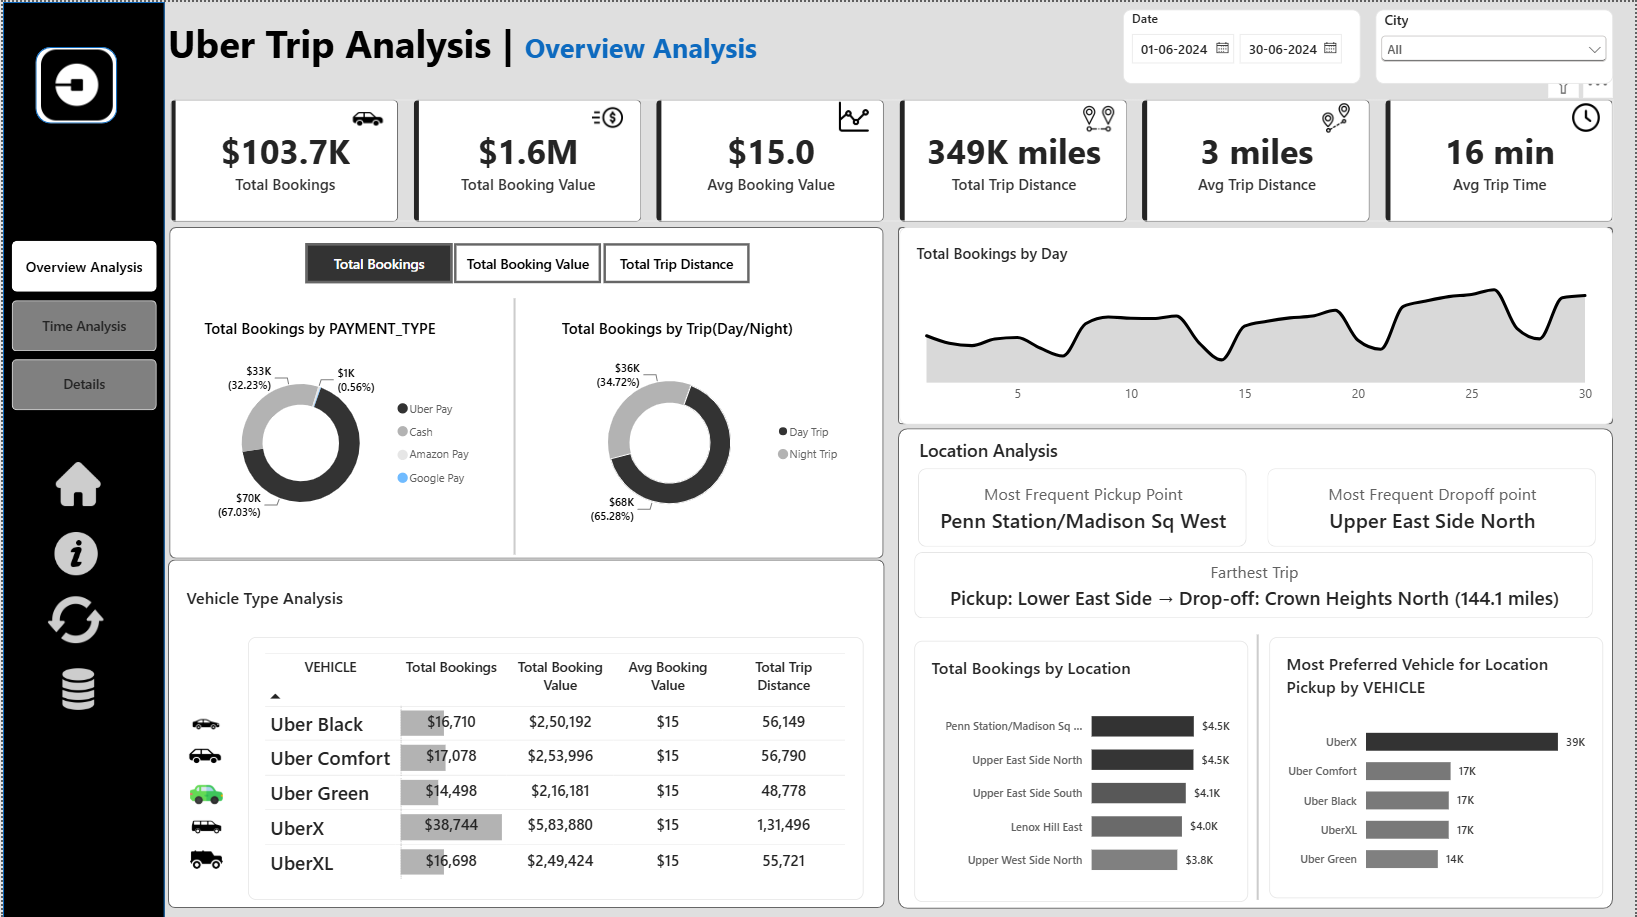

This screenshot's page, from the dashboard's own definition file:
{"tool":"powerbi","page":{"name":"Overview Analysis","canvas":[1600,900],"ordinal":0},"visuals":[{"type":"shape","box":[0,0,158.4,899.7],"z":0},{"type":"textbox","box":[161.3,14.5,601.7,58.1],"z":1000},{"type":"cardVisual","fields":{"Data":["UBER_TABLE.Total Bookings","UBER_TABLE.Total Booking Amount","UBER_TABLE.Avg Booking Amount","UBER_TABLE.Total Trip Distance","UBER_TABLE.Avg Trip Distance","UBER_TABLE.Avg Trip Time"]},"box":[164.2,95.9,1415,120],"z":2000},{"type":"image","box":[568.3,97.4,48,30.5],"z":3000},{"type":"image","box":[331.4,98.8,50.9,30.5],"z":4000},{"type":"image","box":[812.5,95.9,43.6,33.4],"z":5000},{"type":"image","box":[1049.4,98.8,48,30.5],"z":6000},{"type":"image","box":[1284.9,98.8,45.1,29.1],"z":7000},{"type":"image","box":[1533.4,98.8,34.9,27.6],"z":8000},{"type":"shape","box":[162.8,220.9,700,325],"z":9000},{"type":"slicer","fields":{"Values":["Dynamic Measure.Dynamic Measure"]},"box":[276.2,234,475.3,43.6],"z":10000},{"type":"donutChart","fields":{"Y":["UBER_TABLE.Total Bookings"],"Category":["UBER_TABLE.PAYMENT_TYPE"]},"box":[181.7,295.1,300,239],"z":11000},{"type":"donutChart","fields":{"Y":["UBER_TABLE.Total Bookings"],"Category":["UBER_TABLE.Trip Type(Day/Night)"]},"box":[532,295.1,311,238.4],"z":12000},{"type":"shape","box":[161.3,546.5,702,341.6],"z":13000},{"type":"pivotTable","fields":{"Rows":["UBER_TABLE.VEHICLE"],"Values":["UBER_TABLE.Total Bookings","UBER_TABLE.Total Booking Value","UBER_TABLE.Avg Booking Value","UBER_TABLE.Total Trip Distance Measure"]},"box":[239.8,622.1,603.2,257.3],"z":14000},{"type":"image","box":[164.4,693.3,69.8,29.1],"z":15000},{"type":"image","box":[162.8,722.4,69.8,32],"z":16000},{"type":"image","box":[164.4,824.1,69.8,32],"z":17000},{"type":"image","box":[164.4,760.2,69.8,32],"z":18000},{"type":"image","box":[164.4,792.2,69.8,32],"z":19000},{"type":"cardVisual","fields":{"Data":["UBER_TABLE.Title for Grid"]},"box":[158.4,562.5,197.7,42.2],"z":20000},{"type":"shape","box":[876.5,220.9,700.6,193.3],"z":21000},{"type":"areaChart","fields":{"Category":["Calendar Table.Date.Variation.Date Hierarchy.Day"],"Y":["UBER_TABLE.Total Bookings"]},"box":[877.9,220.9,699.1,193.3],"z":22000},{"type":"shape","box":[876.5,417.2,700.6,470.9],"z":23000},{"type":"cardVisual","fields":{"Data":["UBER_TABLE.Most Frequent Pickup Point","UBER_TABLE.Most Frequent Dropoff point"]},"box":[896.8,456.4,665.7,77],"z":24000},{"type":"cardVisual","fields":{"Data":["UBER_TABLE.Farthest Trip"]},"box":[892.4,539.2,665.7,65.4],"z":25000},{"type":"barChart","fields":{"Category":["LOCATION_TABLE.Location"],"Y":["UBER_TABLE.Total Bookings"]},"box":[892.4,626.5,327,255.8],"z":26000},{"type":"barChart","fields":{"Category":["UBER_TABLE.VEHICLE"],"Y":["CountNonNull(UBER_TABLE.PULOCATIONID)"]},"box":[1241.3,622.1,327,255.8],"z":27000},{"type":"shape","box":[484,290.7,34.9,251.5],"z":28000},{"type":"cardVisual","fields":{"Data":["UBER_TABLE.Title for Location"]},"box":[882.3,417.2,197.7,42.2],"z":29000},{"type":"slicer","fields":{"Values":["Calendar Table.Date"]},"box":[1097.4,7.3,232.6,72.7],"z":30000},{"type":"slicer","fields":{"Values":["LOCATION_TABLE.City"]},"box":[1344.5,7.3,232.6,72.7],"z":31000},{"type":"shape","box":[1223.8,619.2,11.6,260.2],"z":32000},{"type":"group","id":"g1","title":"Group 1","box":[1.5,43.6,142.4,75.6],"z":33000},{"type":"shape","box":[32,43.6,80,75],"z":33000,"group":"g1"},{"type":"image","box":[1.5,46.5,142.4,69.8],"z":34000,"group":"g1"},{"type":"pageNavigator","box":[8.7,234,142.4,167.2],"z":34000},{"type":"image","box":[44.9,451.2,57.1,43.5],"z":35000},{"type":"image","box":[42.1,519.2,59.8,42.1],"z":36000},{"type":"image","box":[42.1,577.6,59.8,54.4],"z":37000},{"type":"image","box":[44.9,652.4,57.1,40.8],"z":38000}]}

Visuals, with their boxes on the page's 1600x900 design canvas (x1, y1, x2, y2). These are canvas units, not pixel positions in the 1637x917 screenshot, which may show the page scaled, cropped or inside an application window:
shape: locate(0, 0, 158, 900)
textbox: locate(161, 14, 763, 73)
cardVisual - UBER_TABLE.Total Bookings x UBER_TABLE.Total Booking Amount: locate(164, 96, 1579, 216)
image: locate(568, 97, 616, 128)
image: locate(331, 99, 382, 129)
image: locate(812, 96, 856, 129)
image: locate(1049, 99, 1097, 129)
image: locate(1285, 99, 1330, 128)
image: locate(1533, 99, 1568, 126)
shape: locate(163, 221, 863, 546)
slicer - Dynamic Measure.Dynamic Measure: locate(276, 234, 752, 278)
donutChart - UBER_TABLE.Total Bookings x UBER_TABLE.PAYMENT_TYPE: locate(182, 295, 482, 534)
donutChart - UBER_TABLE.Total Bookings x UBER_TABLE.Trip Type(Day/Night): locate(532, 295, 843, 534)
shape: locate(161, 546, 863, 888)
pivotTable - UBER_TABLE.VEHICLE x UBER_TABLE.Total Bookings: locate(240, 622, 843, 879)
image: locate(164, 693, 234, 722)
image: locate(163, 722, 233, 754)
image: locate(164, 824, 234, 856)
image: locate(164, 760, 234, 792)
image: locate(164, 792, 234, 824)
cardVisual - UBER_TABLE.Title for Grid: locate(158, 562, 356, 605)
shape: locate(876, 221, 1577, 414)
areaChart - Calendar Table.Date.Variation.Date Hierarchy.Day x UBER_TABLE.Total Bookings: locate(878, 221, 1577, 414)
shape: locate(876, 417, 1577, 888)
cardVisual - UBER_TABLE.Most Frequent Pickup Point x UBER_TABLE.Most Frequent Dropoff point: locate(897, 456, 1562, 533)
cardVisual - UBER_TABLE.Farthest Trip: locate(892, 539, 1558, 605)
barChart - LOCATION_TABLE.Location x UBER_TABLE.Total Bookings: locate(892, 626, 1219, 882)
barChart - UBER_TABLE.VEHICLE x CountNonNull(UBER_TABLE.PULOCATIONID): locate(1241, 622, 1568, 878)
shape: locate(484, 291, 519, 542)
cardVisual - UBER_TABLE.Title for Location: locate(882, 417, 1080, 459)
slicer - Calendar Table.Date: locate(1097, 7, 1330, 80)
slicer - LOCATION_TABLE.City: locate(1344, 7, 1577, 80)
shape: locate(1224, 619, 1235, 879)
"Group 1" group: locate(2, 44, 144, 119)
shape: locate(32, 44, 112, 119)
image: locate(2, 46, 144, 116)
pageNavigator: locate(9, 234, 151, 401)
image: locate(45, 451, 102, 495)
image: locate(42, 519, 102, 561)
image: locate(42, 578, 102, 632)
image: locate(45, 652, 102, 693)
